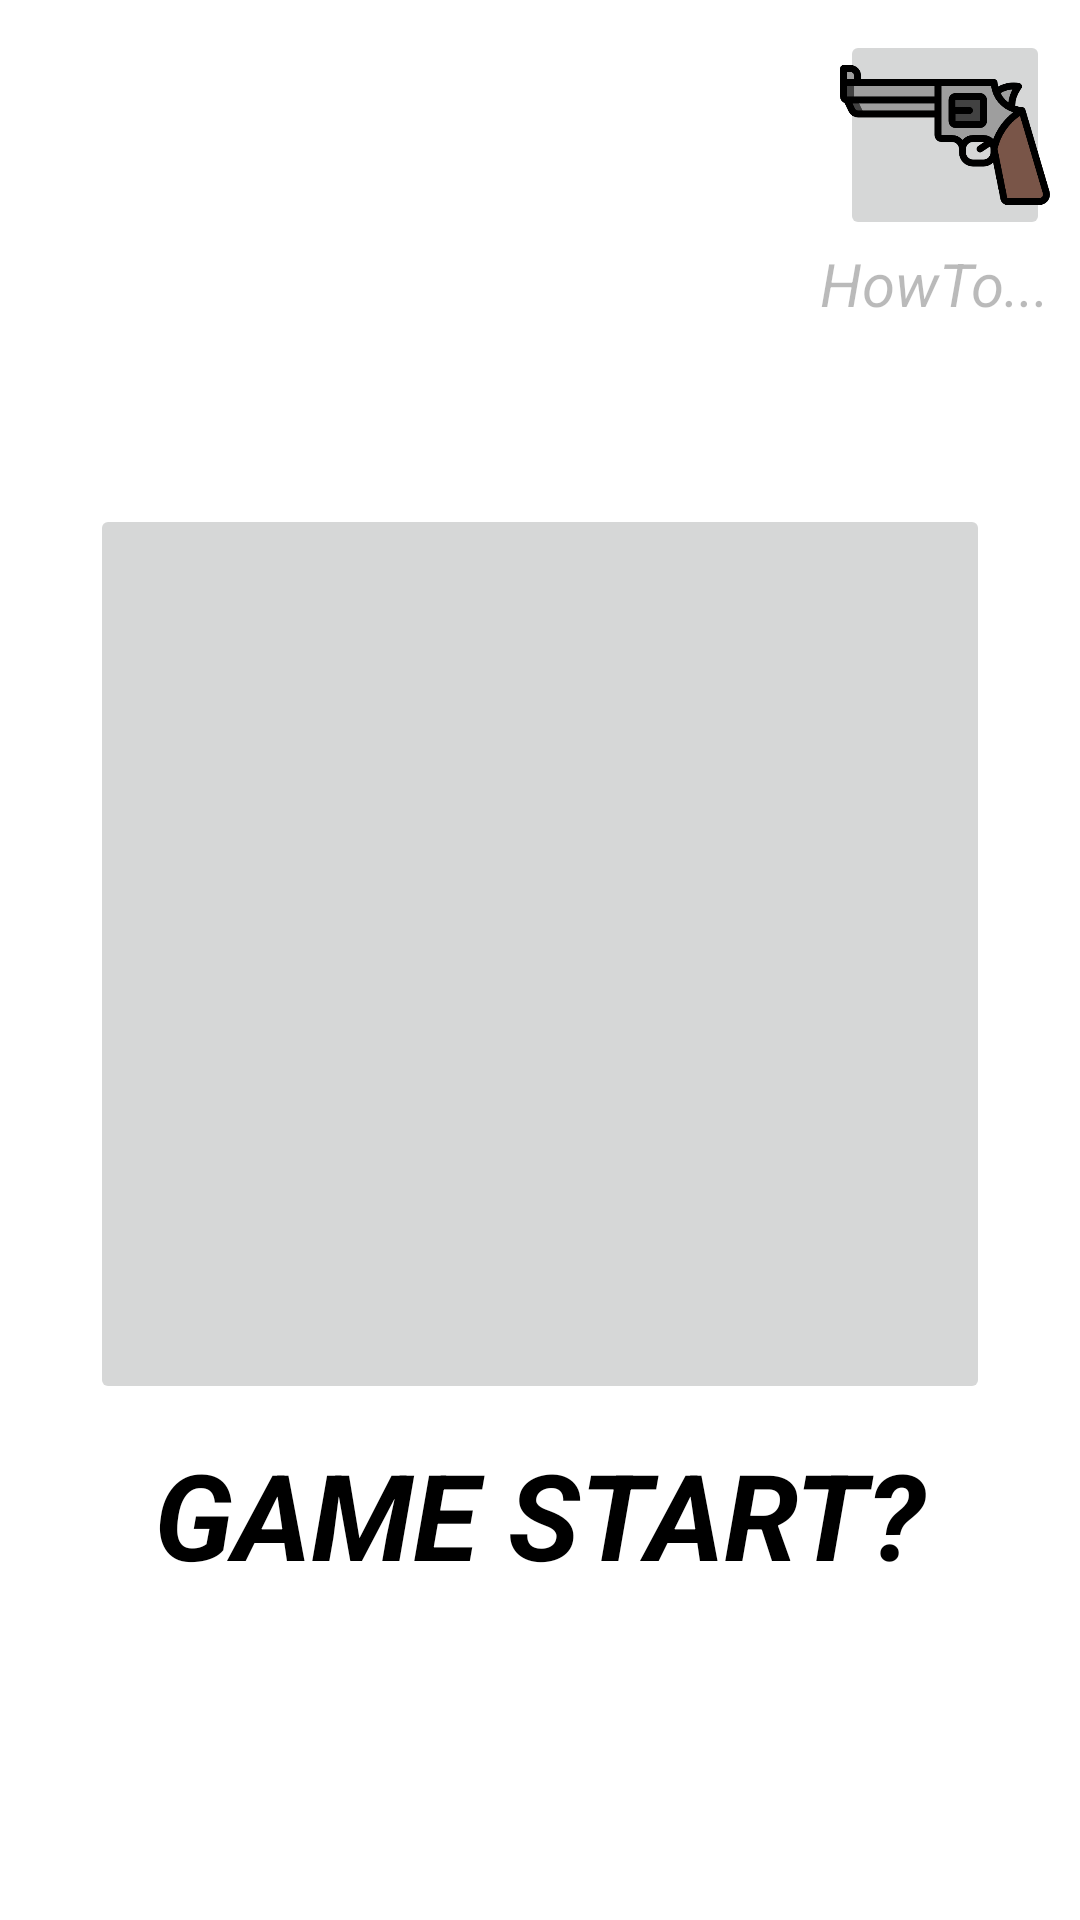

Named icons in this screenshot (1080*1920) and their bounding boxes, bbox=(x1, y1, x2, y2):
gun: bbox=(840, 48, 1050, 222)
